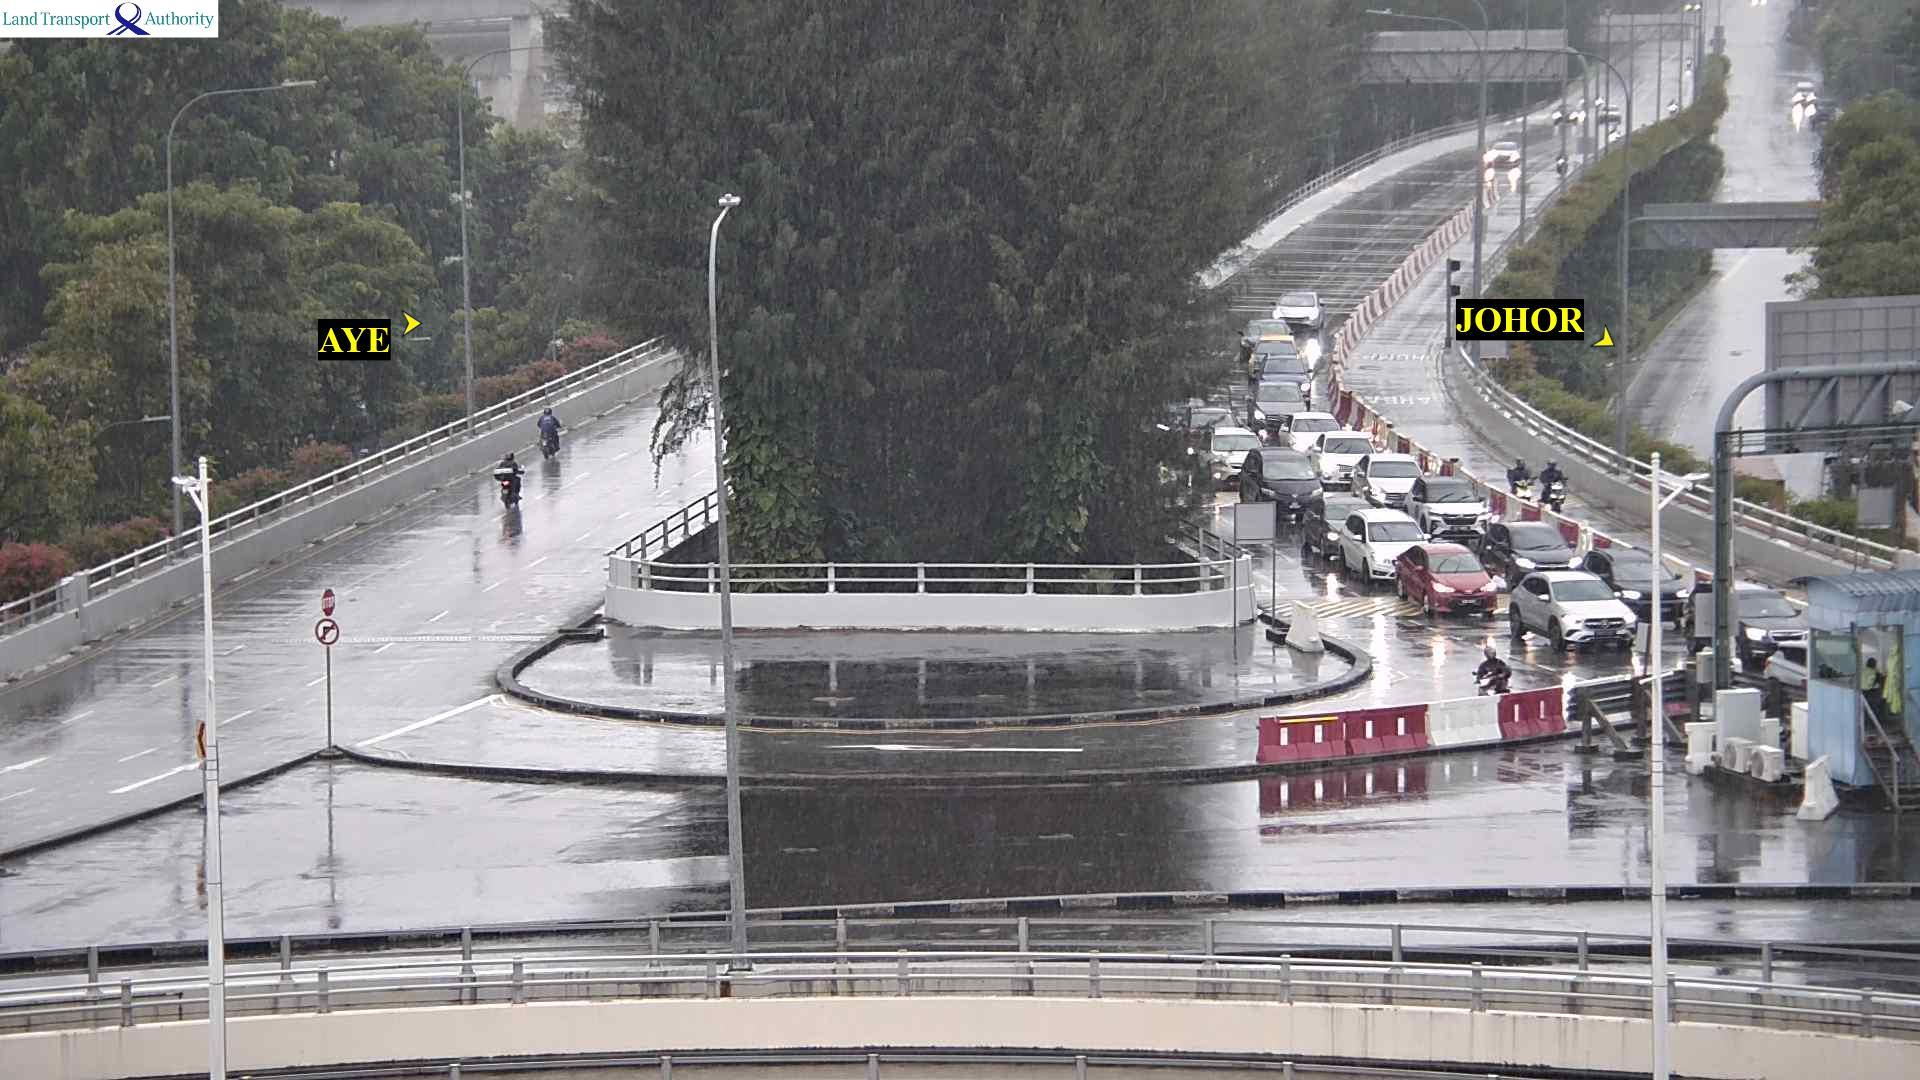vehicle-secondlink-johor: (1502, 578, 1654, 647), (1317, 516, 1445, 587), (1386, 553, 1523, 618), (1679, 591, 1815, 651), (1394, 479, 1509, 534), (1468, 522, 1588, 571), (1302, 495, 1373, 562), (1242, 447, 1317, 508), (1346, 458, 1441, 501), (1196, 430, 1258, 485), (1357, 452, 1416, 505), (1313, 433, 1370, 487), (1261, 352, 1311, 400), (1280, 410, 1341, 448), (1276, 291, 1328, 331), (1253, 382, 1298, 422), (1247, 338, 1288, 377), (1543, 459, 1573, 508), (1238, 320, 1286, 344), (1505, 458, 1531, 498), (1484, 141, 1518, 167), (1556, 105, 1578, 124), (1555, 153, 1567, 178)
vehicle-secondlink-singapore: (549, 418, 575, 468), (492, 458, 524, 495)
